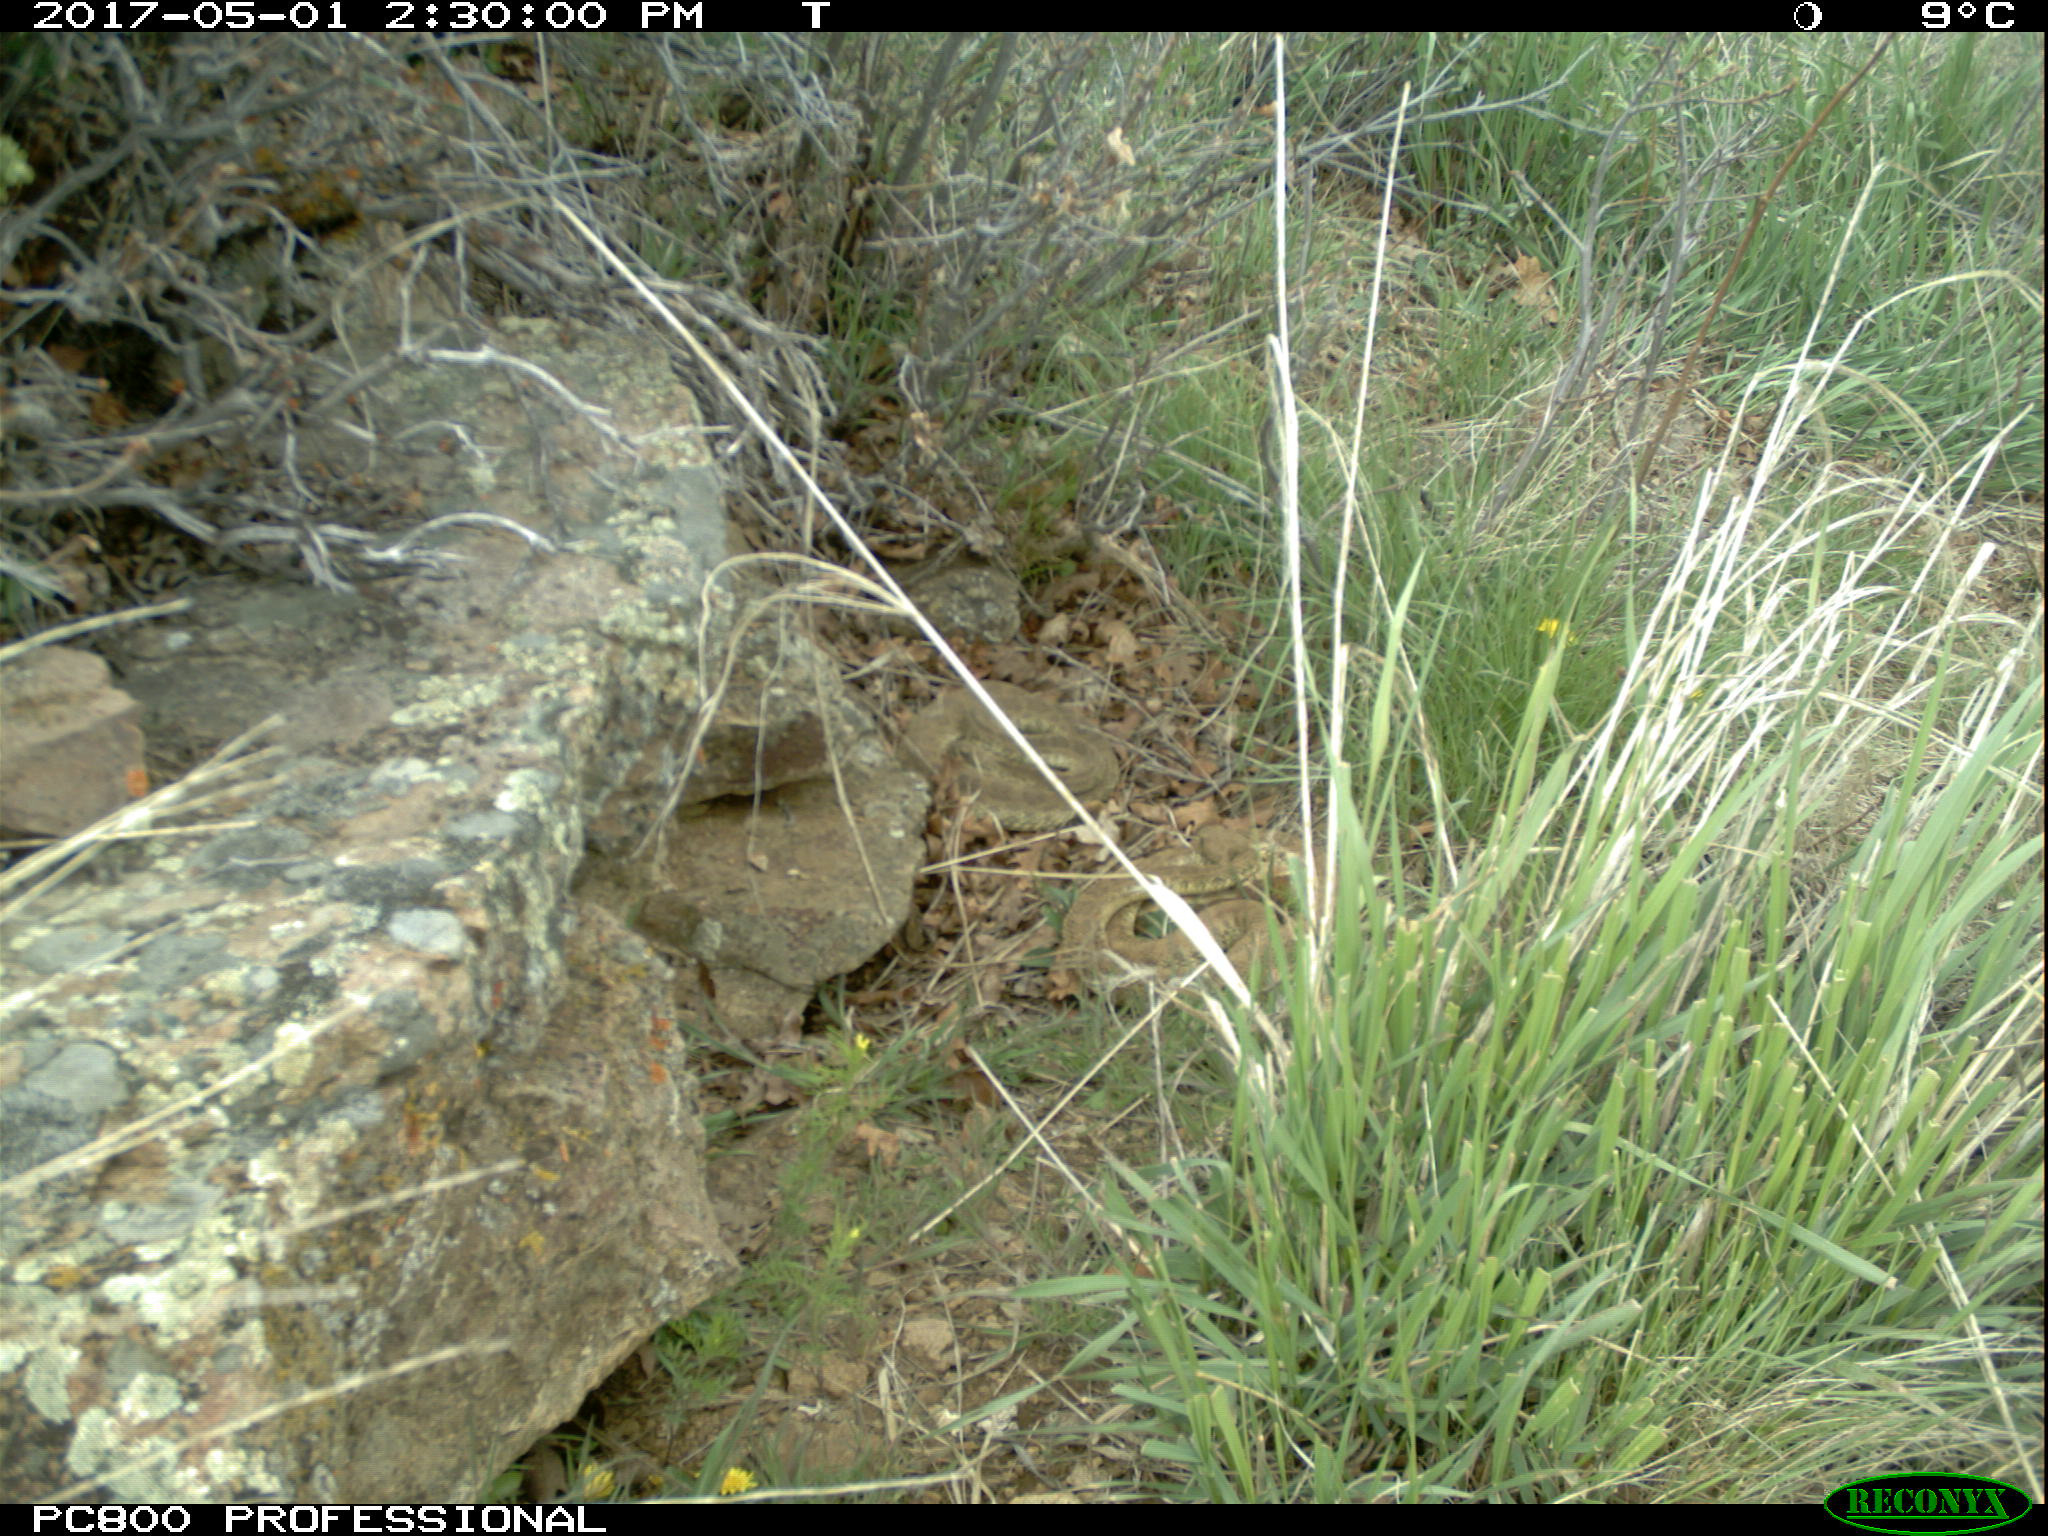snake: (1053, 823, 1330, 1004), (900, 671, 1138, 836)
